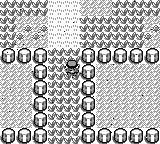captura: (80, 0, 159, 48), (47, 48, 81, 144), (0, 0, 48, 47)
main: (65, 59, 79, 75)
no-caminable: (81, 49, 159, 143), (0, 47, 47, 143)
